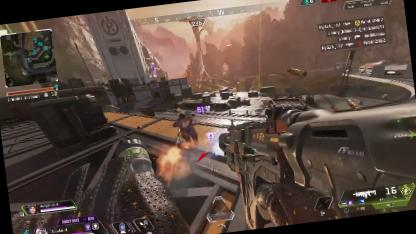Target: (174, 108, 198, 154)
